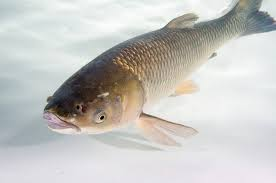carp: (41, 1, 275, 148)
